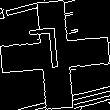L_S: (37, 28, 73, 82)
